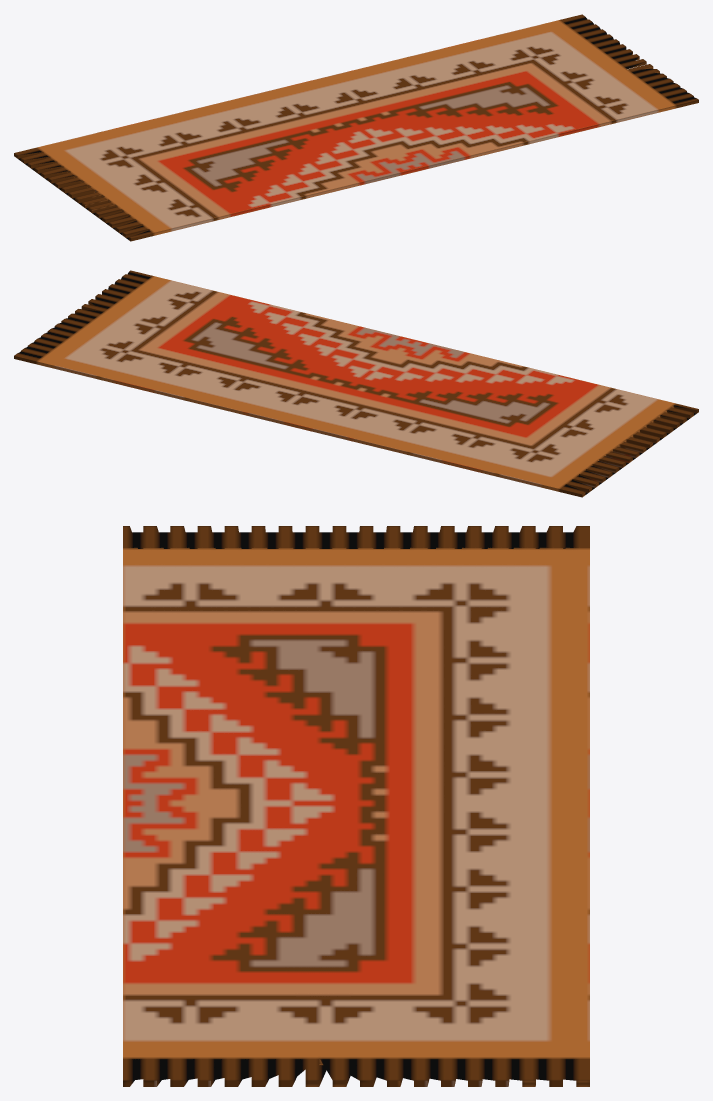
The model's file is picthure-2.fbx.
3 views of the same model, one above another, from view 1: azimuth 30°, elevation 25°; view 2: azimuth 150°, elevation 25°; view 3: azimuth 270°, elevation 25° (orthographic). The views are drawn at different scales.
Visible parts, largest first — view 1: Untitled; view 2: Untitled; view 3: Untitled.
Part boxes in pixels (x1,y1,x2,y2): Untitled: [14, 14, 698, 241]; Untitled: [14, 270, 698, 497]; Untitled: [123, 526, 589, 1086].
Bounding box in the file's own units: 1940 × 10 × 690.
1 material, 1 textured.
